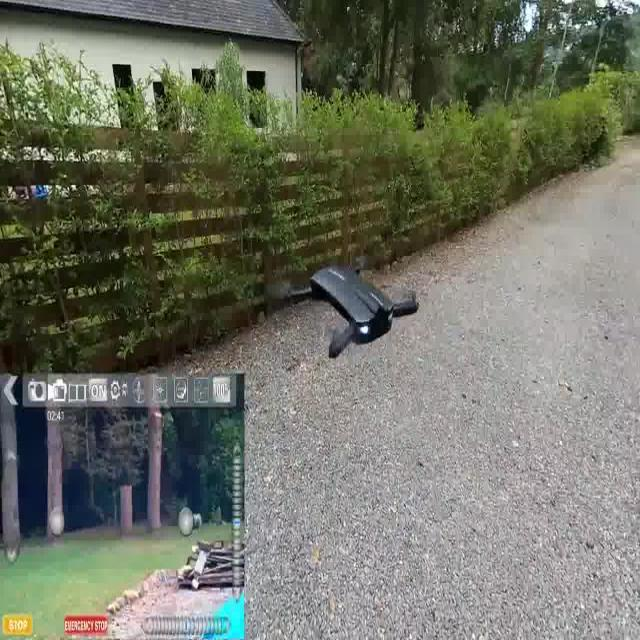Drone_FW: (268, 249, 422, 370)
